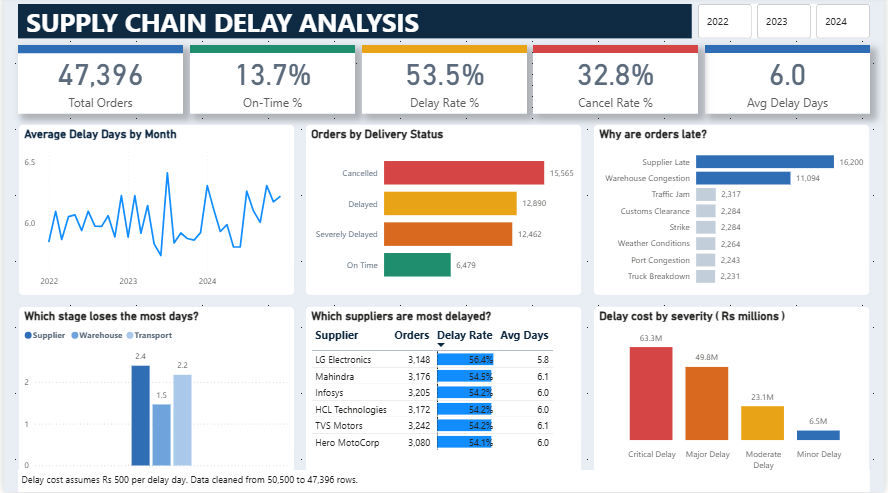

Layout of this report page (visuals, bound fields, positions):
{"tool":"powerbi","page":{"name":"Supply_chain_overview","canvas":[1280,720],"ordinal":0},"visuals":[{"type":"textbox","box":[20.4,10.2,980,50],"z":0},{"type":"card","fields":{"Values":["Fact_Orders.Total Orders"]},"box":[20,70,240,100.4],"z":1000},{"type":"card","fields":{"Values":["Fact_Orders.On-Time %"]},"box":[270,70,240,100.4],"z":2000},{"type":"card","fields":{"Values":["Fact_Orders.Delay Rate %"]},"box":[520,70,240,100.4],"z":3000},{"type":"card","fields":{"Values":["Fact_Orders.Avg Delay Days"]},"box":[1020,70,240,100.4],"z":4000},{"type":"card","fields":{"Values":["Fact_Orders.Cancel Rate %"]},"box":[770,70,240,100.4],"z":5000},{"type":"shape","box":[20,70,240,12],"z":6000},{"type":"shape","box":[270.5,70,240,11.6],"z":7000},{"type":"shape","box":[520,70,240,11.6],"z":8000},{"type":"shape","box":[770,70,240,11.6],"z":9000},{"type":"shape","box":[1020,70,240,11.6],"z":10000},{"type":"lineChart","title":"Average Delay Days by Month","fields":{"Category":["Fact_Orders.Order_Month"],"Y":["Fact_Orders.Avg Delay Days"]},"box":[20,185,403,250],"z":11000},{"type":"clusteredBarChart","title":"Orders by Delivery Status","fields":{"Category":["Fact_Orders.Delivery_Status"],"Y":["Fact_Orders.Total Orders"]},"box":[438,185,403,250.2],"z":12000},{"type":"clusteredBarChart","title":"Why are orders late?","fields":{"Category":["Fact_Orders.Delay_Reason"],"Y":["Fact_Orders.Total Orders"]},"box":[856,185,403,250],"z":13000},{"type":"clusteredColumnChart","title":"Which stage loses the most days?","fields":{"Y":["Fact_Orders.Avg Supplier Delay","Fact_Orders.Avg Warehouse Delay","Fact_Orders.Avg Transport Delay"]},"box":[20,450,403,250],"z":14000},{"type":"tableEx","title":"Which suppliers are most delayed?","fields":{"Values":["Fact_Orders.Supplier_Name","Fact_Orders.Total Orders","Fact_Orders.Delay Rate %","Fact_Orders.Avg Delay Days"]},"box":[438,450,403,250],"z":15000},{"type":"clusteredColumnChart","title":"Delay cost by severity ( Rs millions )","fields":{"Category":["Fact_Orders.Delay_Category"],"Y":["Fact_Orders.Total Delay Cost"]},"box":[856,450,403,250],"z":16000},{"type":"advancedSlicerVisual","fields":{"Values":["Dim_Date.Year"]},"box":[1010,10.2,250,50],"z":17000},{"type":"textbox","box":[20.4,688,1239.3,32],"z":17001}]}

Visuals, with their boxes in screenshot pixels (x1, y1, x2, y2), scaled from the page's 1280x720 canvas onto the 888x493 screenshot:
textbox: [left=14, top=7, right=694, bottom=41]
card - Fact_Orders.Total Orders: [left=14, top=48, right=180, bottom=117]
card - Fact_Orders.On-Time %: [left=187, top=48, right=354, bottom=117]
card - Fact_Orders.Delay Rate %: [left=361, top=48, right=527, bottom=117]
card - Fact_Orders.Avg Delay Days: [left=708, top=48, right=874, bottom=117]
card - Fact_Orders.Cancel Rate %: [left=534, top=48, right=701, bottom=117]
shape: [left=14, top=48, right=180, bottom=56]
shape: [left=188, top=48, right=354, bottom=56]
shape: [left=361, top=48, right=527, bottom=56]
shape: [left=534, top=48, right=701, bottom=56]
shape: [left=708, top=48, right=874, bottom=56]
"Average Delay Days by Month" lineChart: [left=14, top=127, right=293, bottom=298]
"Orders by Delivery Status" clusteredBarChart: [left=304, top=127, right=583, bottom=298]
"Why are orders late?" clusteredBarChart: [left=594, top=127, right=873, bottom=298]
"Which stage loses the most days?" clusteredColumnChart: [left=14, top=308, right=293, bottom=479]
"Which suppliers are most delayed?" tableEx: [left=304, top=308, right=583, bottom=479]
"Delay cost by severity ( Rs millions )" clusteredColumnChart: [left=594, top=308, right=873, bottom=479]
advancedSlicerVisual - Dim_Date.Year: [left=701, top=7, right=874, bottom=41]
textbox: [left=14, top=471, right=874, bottom=492]
